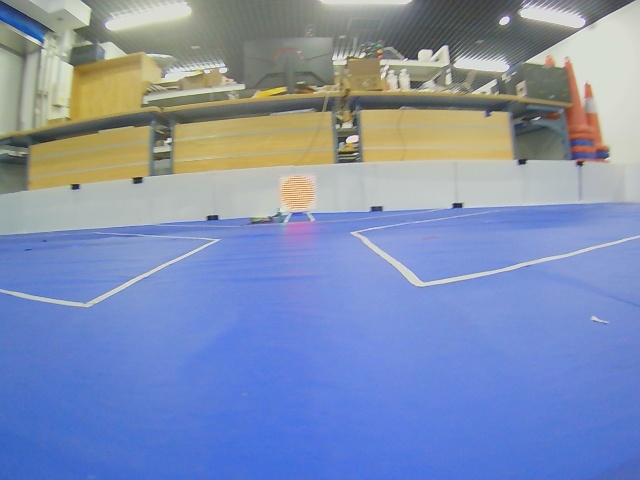red: (280, 175, 316, 213)
